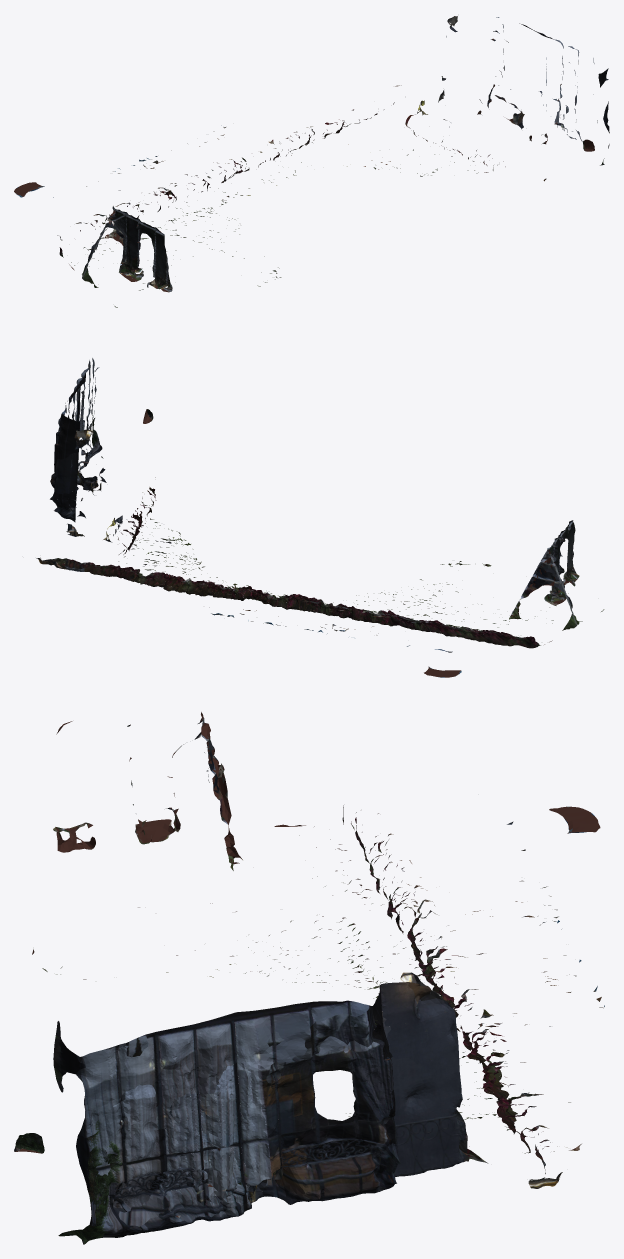
File: scene_lite.glb
3 views of the same model, one above another, from view 1: azimuth 30°, elevation 25°; view 2: azimuth 150°, elevation 25°; view 3: azimuth 270°, elevation 25° (orthographic). The views are drawn at different scales.
Visible parts, largest first — view 1: material_00; view 2: material_00, material_01; view 3: material_00, material_01.
Part boxes in pixels (x1,y1,x2,y2): material_00: (14,16,609,307); material_00: (36,358,604,677); material_01: (54,401,310,630); material_00: (14,712,601,1244); material_01: (15,955,604,1224).
Bounding box in the file's own units: 14.91 × 3.9 × 7.85.
2 materials, 2 textured.
